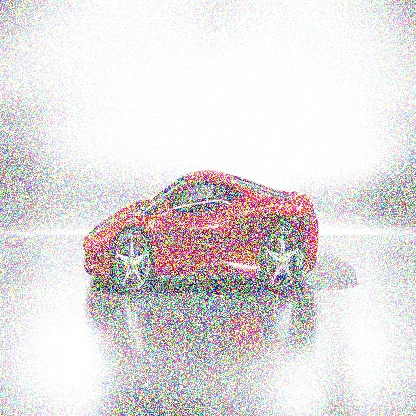Vehicle: (82, 170, 318, 298)
